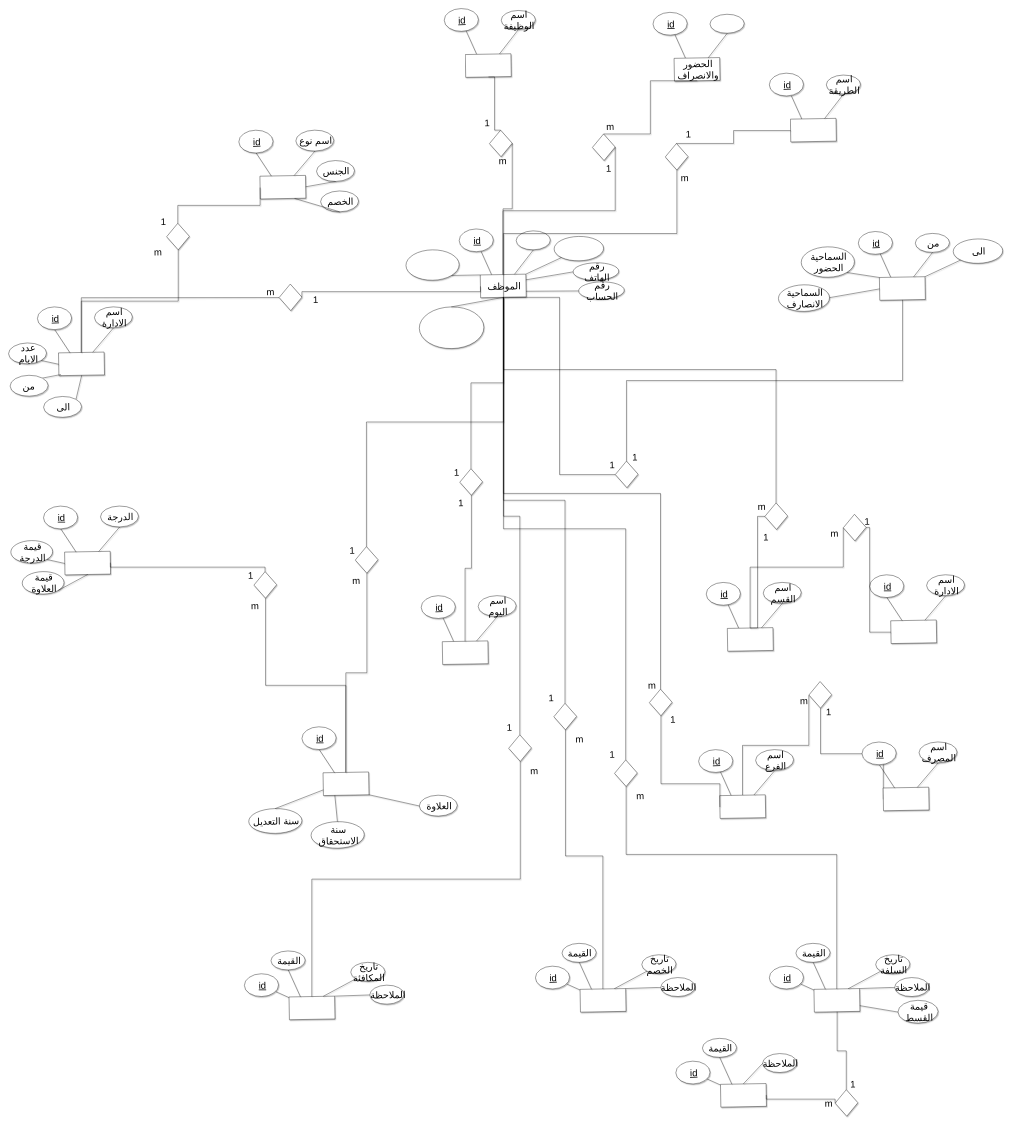
This 1012x1126 diagram has some shape labels left out. The shapes that lost their labels are listed below. From the top down, each one's centre as x and y in pixels, then its label:
[727,24]: حاضر او غائب
[488,66]: الوظيفة
[813,130]: طريقة السداد
[283,187]: نوع الاجازة
[533,241]: الاسم
[579,249]: الرقم الوطني
[433,265]: تاريخ التعين
[902,289]: الدوام
[452,328]: حالة الموضف
[82,364]: الاجازة
[88,563]: الدرجات
[750,640]: الاقسام
[914,632]: الادارة
[465,653]: ايام الاسبوع
[346,784]: المرتبات
[906,799]: المصارف
[743,807]: فروع المصرف
[312,1008]: المكافئة
[603,1001]: الخصومات
[837,1001]: السلف
[744,1096]: سداد السلف
